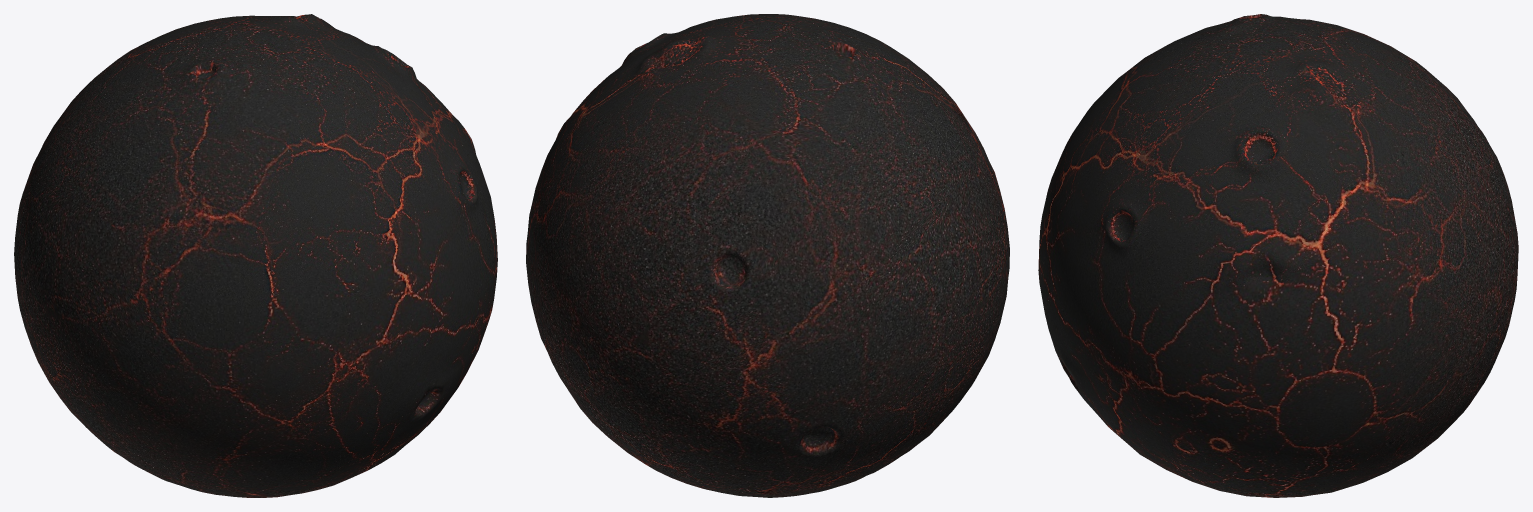
Rendered from tripo_convert_b9983a86-47a8-48ac-bb44-f70ef79f5f24.fbx.
The picture shows the model from 3 angles, left to right: view 1: azimuth 30°, elevation 25°; view 2: azimuth 150°, elevation 25°; view 3: azimuth 270°, elevation 25°; orthographic projection.
Visible parts, largest first — view 1: tripo_node_b9983a86; view 2: tripo_node_b9983a86; view 3: tripo_node_b9983a86.
Part boxes in pixels (bbox=[...]): tripo_node_b9983a86: bbox=[14, 14, 497, 497]; tripo_node_b9983a86: bbox=[526, 14, 1009, 497]; tripo_node_b9983a86: bbox=[1038, 14, 1518, 497].
Bounding box in the file's own units: 0.998 × 0.998 × 0.998.
1 material, 1 textured.
